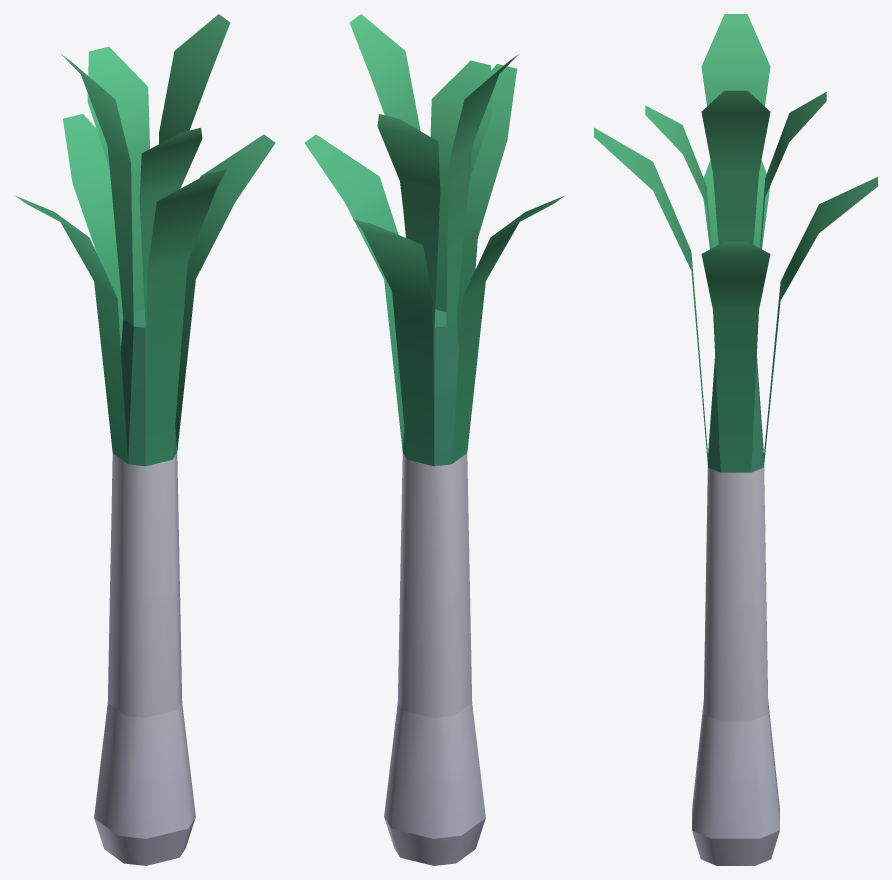
Rendered from kenney-food-leek.glb.
3 renders of one model, left to right at view 1: azimuth 30°, elevation 25°; view 2: azimuth 150°, elevation 25°; view 3: azimuth 270°, elevation 25°, orthographic.
Visible parts, largest first — view 1: leek; view 2: leek; view 3: leek.
Part boxes in pixels (x1=…): leek: x1=16, y1=14, x2=275, y2=865; leek: x1=304, y1=14, x2=563, y2=865; leek: x1=594, y1=14, x2=877, y2=865.
Size of the model in its own units: 0.2729 by 0.8474 by 0.2729.
1 material, 1 textured.
